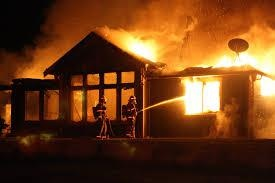fire: (181, 75, 220, 115)
